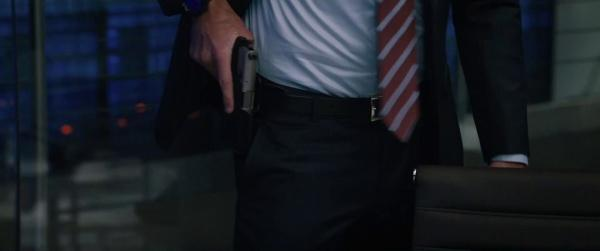Gun: (233, 40, 258, 114)
